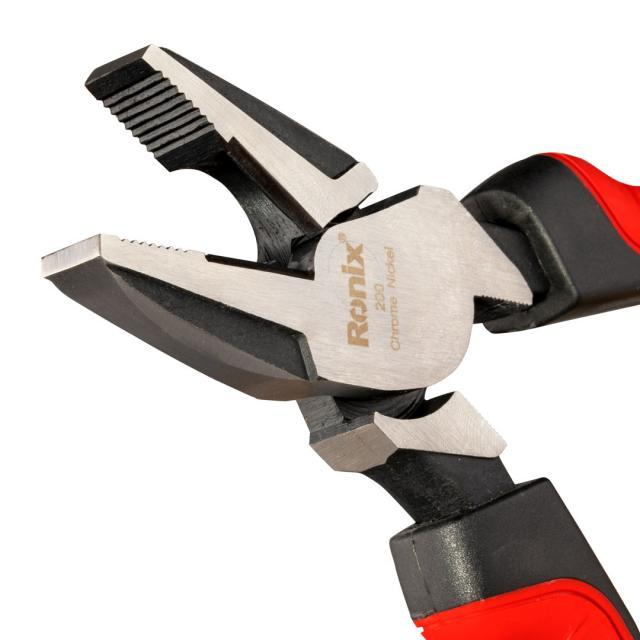pliers: (36, 34, 640, 638)
